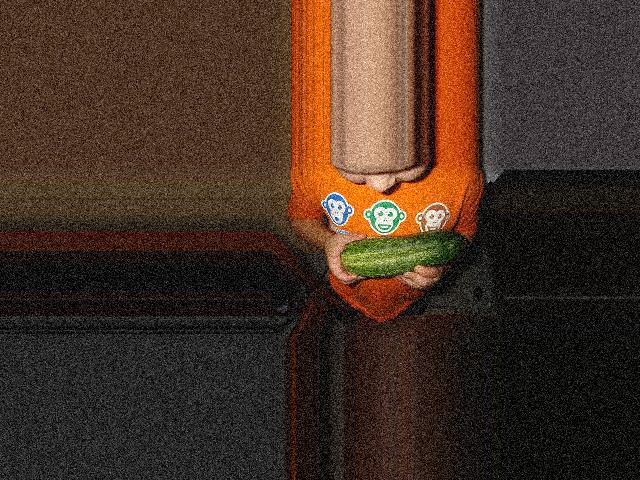cucumber: (339, 230, 465, 277)
